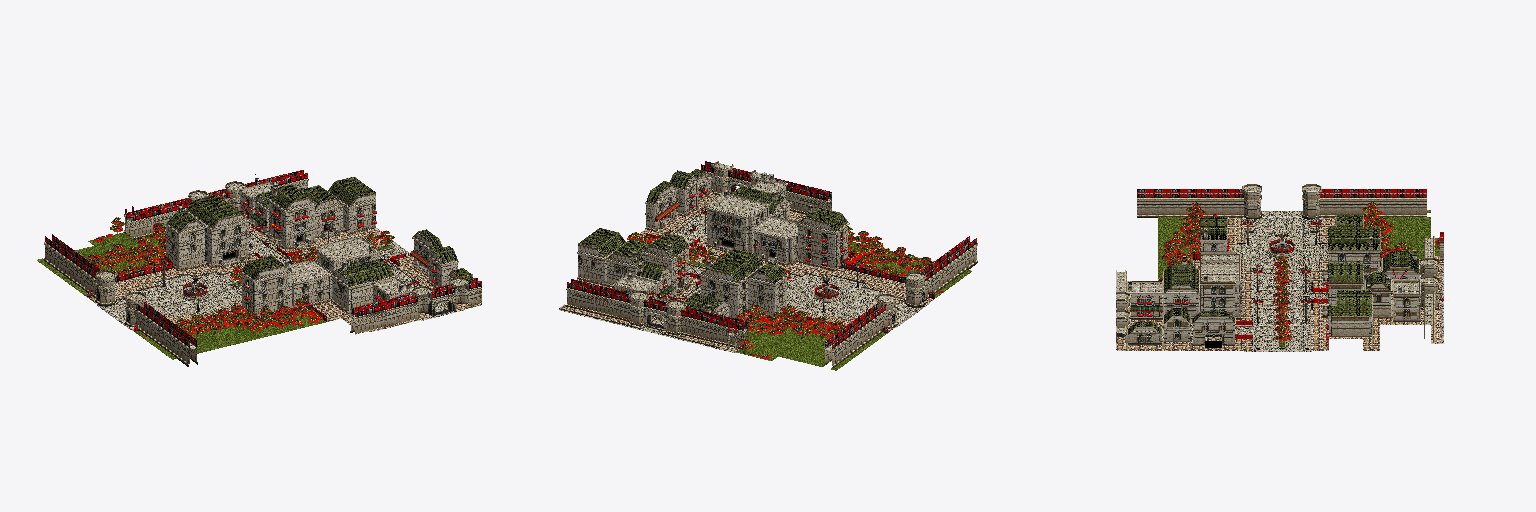
3 renders of one model, left to right at view 1: azimuth 30°, elevation 25°; view 2: azimuth 150°, elevation 25°; view 3: azimuth 270°, elevation 25°, orthographic.
Parts seen in each view (by area): view 1: Object.1; view 2: Object.1; view 3: Object.1.
Boxes of the visible parts, x1,y1,x2,y2 form: Object.1: [37, 170, 481, 366]; Object.1: [559, 161, 977, 370]; Object.1: [1116, 184, 1443, 351].
Bounding box in the file's own units: 78.17 × 13.04 × 77.09.
23 materials, 23 textured.